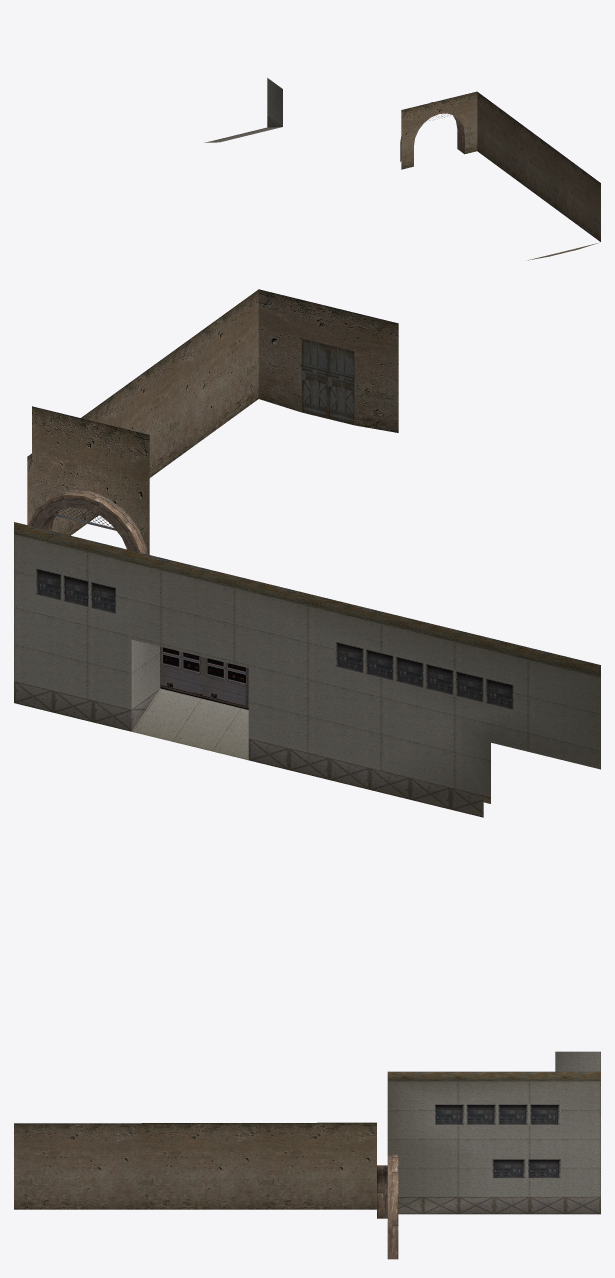
The model's file is M11Z1_TownWall08_C.glb.
The picture shows the model from 3 angles, top to bottom: view 1: azimuth 30°, elevation 25°; view 2: azimuth 150°, elevation 25°; view 3: azimuth 270°, elevation 25°; orthographic projection. The views are drawn at different scales.
Visible parts, largest first — view 1: M11Z1_TOWNWALL08_C; view 2: M11Z1_TOWNWALL08_C; view 3: M11Z1_TOWNWALL08_C.
Boxes of the visible parts, x1=… form: M11Z1_TOWNWALL08_C: x1=204, y1=78, x2=600, y2=260; M11Z1_TOWNWALL08_C: x1=14, y1=289, x2=600, y2=817; M11Z1_TOWNWALL08_C: x1=14, y1=1051, x2=600, y2=1259.
Bounding box in the file's own units: 48.8 × 12 × 44.
Materials: 10 (10 with a texture image).
